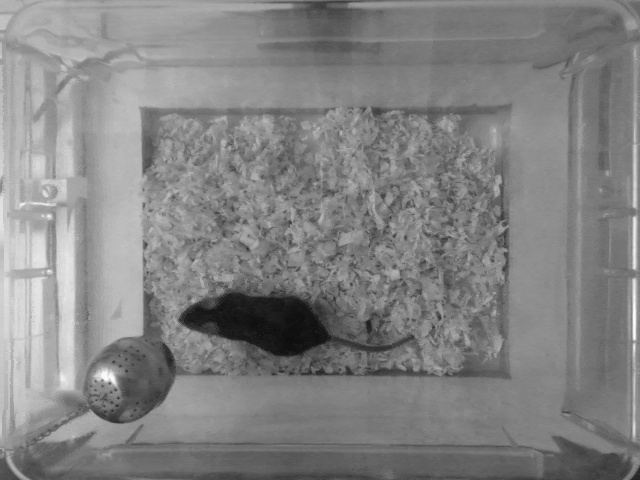mice: (175, 293, 414, 361)
